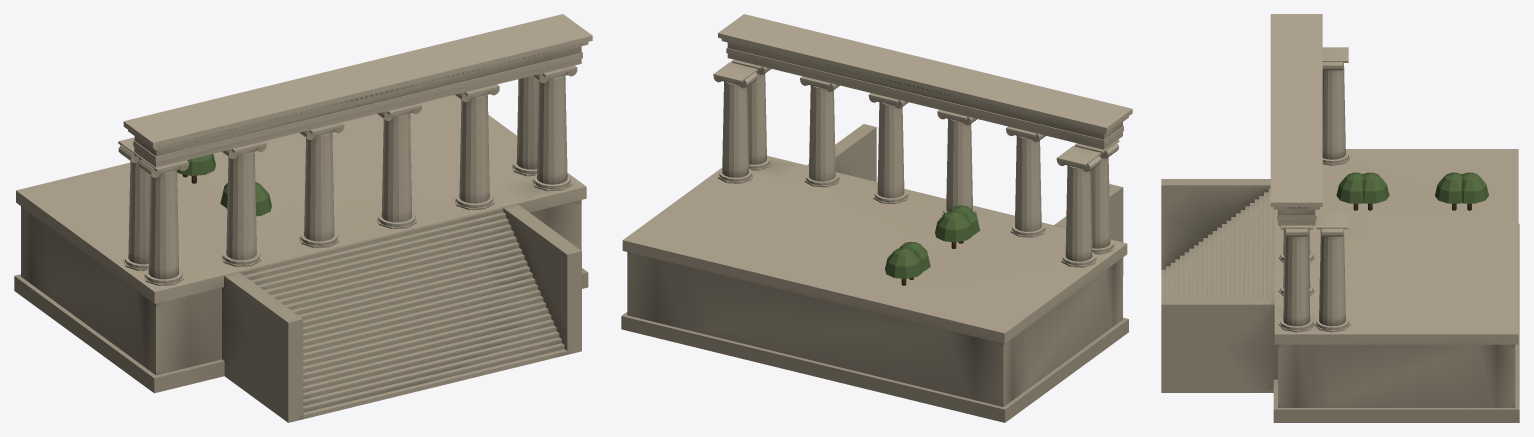
File: temple-of-saturn-ruin.glb
The picture shows the model from 3 angles, left to right: view 1: azimuth 30°, elevation 25°; view 2: azimuth 150°, elevation 25°; view 3: azimuth 270°, elevation 25°; orthographic projection. The views are drawn at different scales.
Visible parts, largest first — view 1: p0_podium, p1_columns, p2_roof; view 2: p0_podium, p1_columns, p2_roof; view 3: p0_podium, p2_roof, p1_columns.
Boxes of the visible parts, x1,y1,x2,y2 form: p0_podium: (14, 95, 588, 422); p1_columns: (118, 65, 577, 285); p2_roof: (123, 14, 592, 216); p0_podium: (621, 124, 1128, 422); p1_columns: (713, 59, 1119, 267); p2_roof: (718, 14, 1132, 285); p0_podium: (1161, 149, 1519, 422); p2_roof: (1270, 14, 1488, 225); p1_columns: (1278, 47, 1350, 332).
Size of the model in its own units: 41.32 by 22.66 by 33.2.
